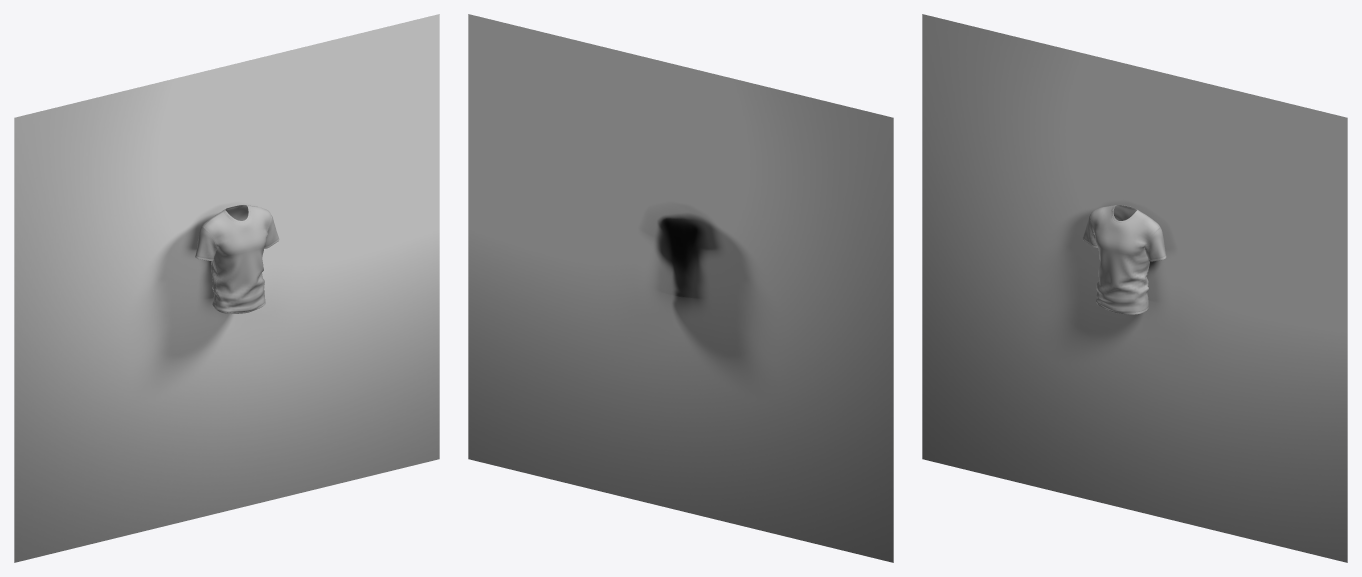
The model's file is shirt_baked_lower2.glb.
3 renders of one model, left to right at view 1: azimuth 30°, elevation 25°; view 2: azimuth 150°, elevation 25°; view 3: azimuth 330°, elevation 25°, orthographic.
Parts seen in each view (by area): view 1: Plane, T_Shirt_male; view 2: Plane; view 3: Plane, T_Shirt_male.
Part boxes in pixels (x1=…): Plane: x1=14, y1=14, x2=439, y2=562; T_Shirt_male: x1=195, y1=204, x2=279, y2=314; Plane: x1=468, y1=14, x2=893, y2=562; Plane: x1=922, y1=14, x2=1347, y2=562; T_Shirt_male: x1=1082, y1=205, x2=1166, y2=314.
Bounding box in the file's own units: 2.84 × 2.84 × 0.2717.
2 materials, 1 textured.
